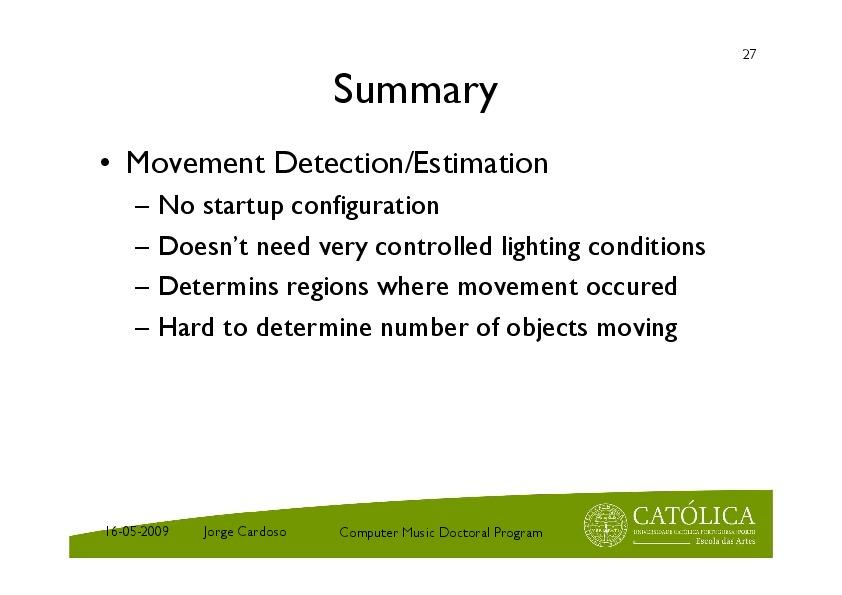paragraph: (80, 135, 754, 387)
subtitle: (94, 502, 556, 556)
title: (325, 65, 524, 125)
